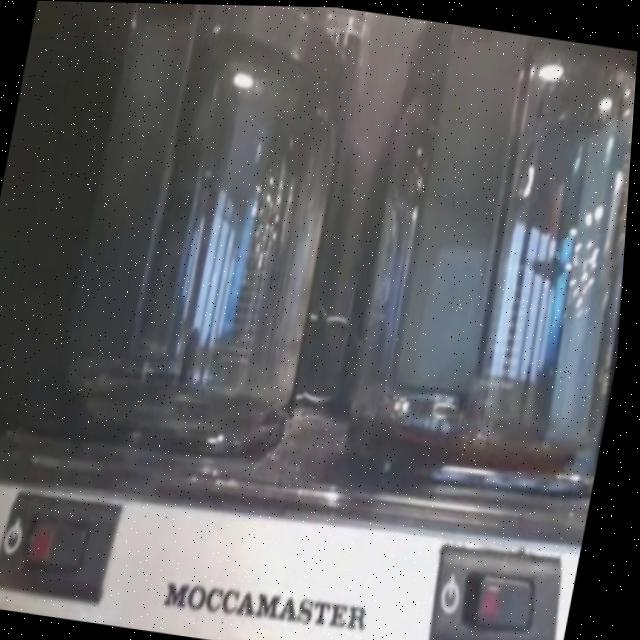nocoffee: (344, 52, 638, 477), (76, 58, 353, 440)
